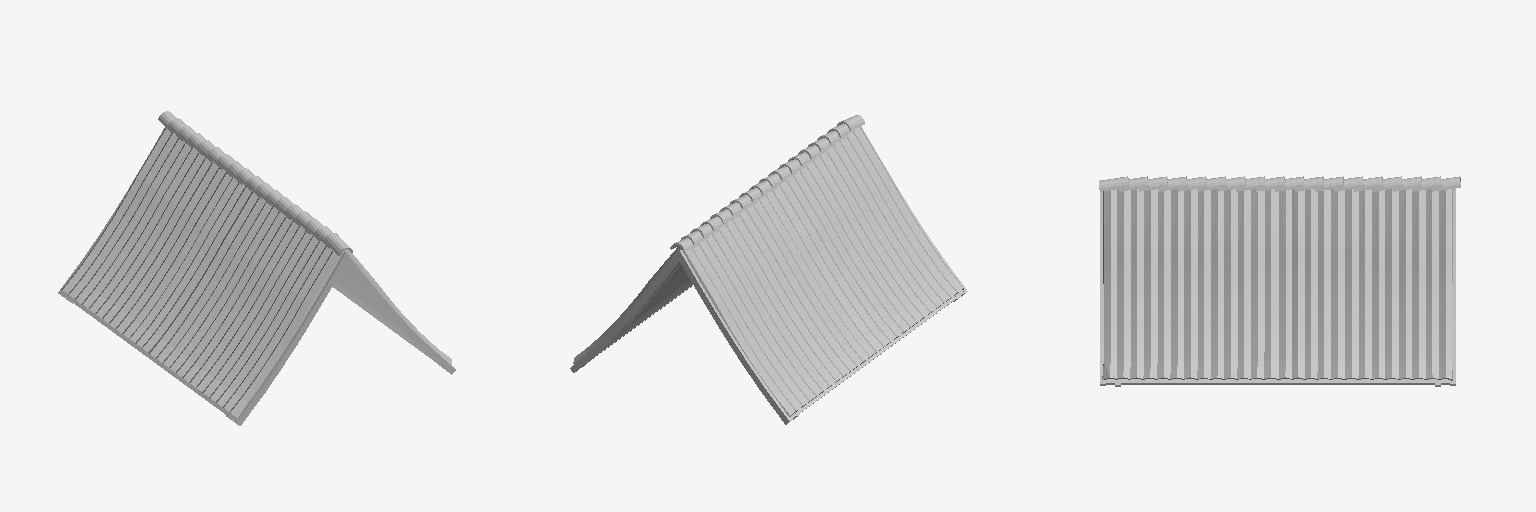
File: Roof_RoundTiles_8x12.obj
3 renders of one model, left to right at view 1: azimuth 30°, elevation 25°; view 2: azimuth 150°, elevation 25°; view 3: azimuth 270°, elevation 25°, orthographic.
Parts seen in each view (by area): view 1: Roof_RoundTiles_8x12; view 2: Roof_RoundTiles_8x12; view 3: Roof_RoundTiles_8x12.
Boxes of the visible parts, <box> form: Roof_RoundTiles_8x12: <box>58,111,455,425</box>; Roof_RoundTiles_8x12: <box>570,115,967,424</box>; Roof_RoundTiles_8x12: <box>1099,176,1460,386</box>.
Size of the model in its own units: 9.95 by 6.78 by 14.13.